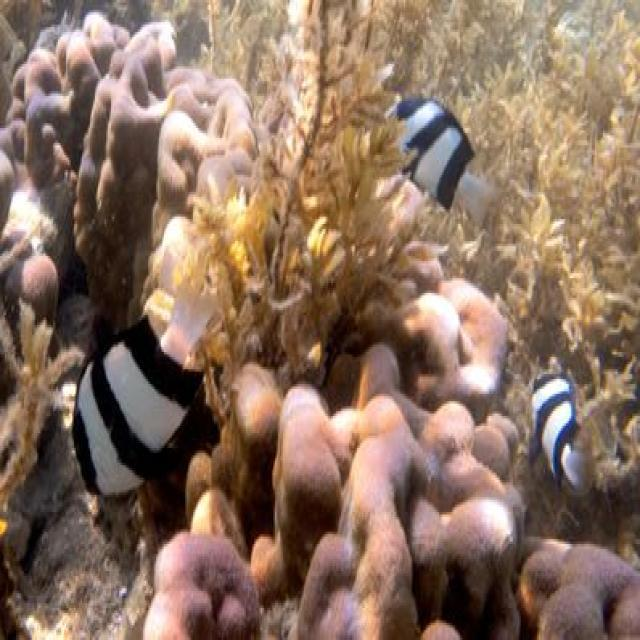Three_striped DasmselFish: (74, 296, 207, 504), (388, 90, 502, 217), (532, 364, 588, 490)
